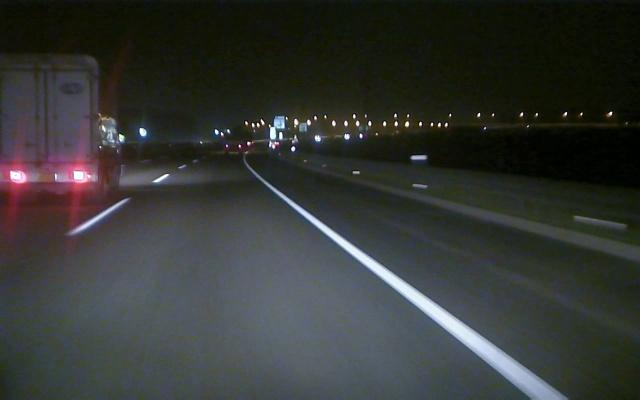lane: (263, 182, 566, 396), (66, 174, 166, 235)
